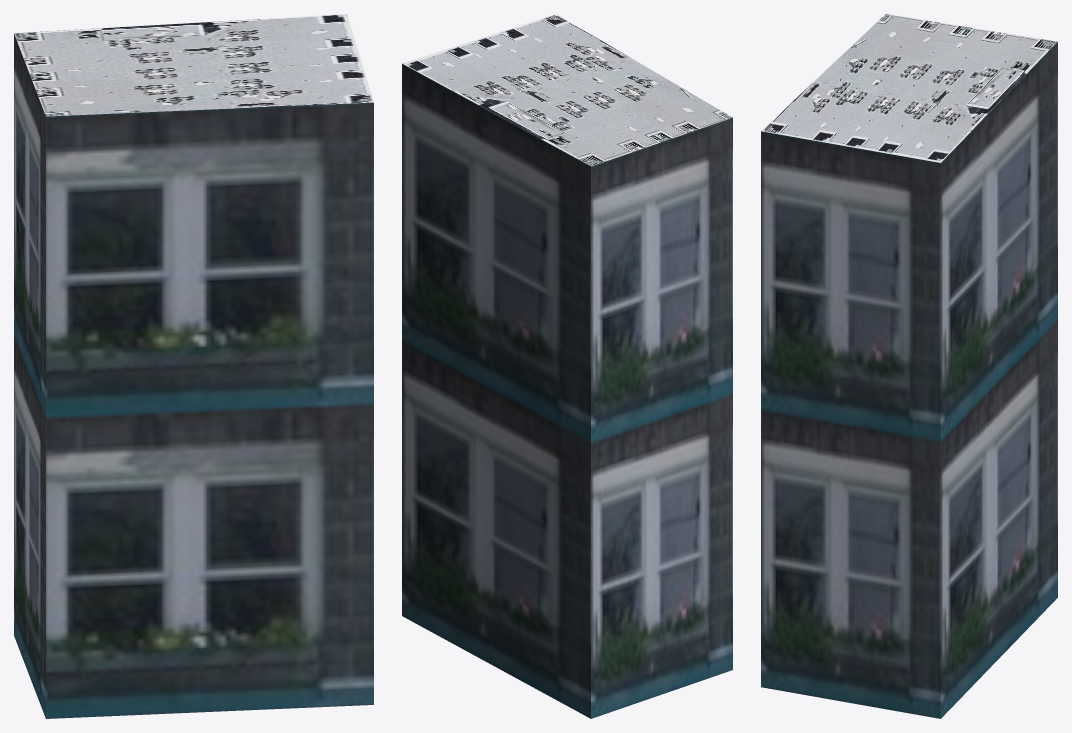
File: ResTex__2420.fbx
3 views of the same model, side by side, from view 1: azimuth 30°, elevation 25°; view 2: azimuth 150°, elevation 25°; view 3: azimuth 270°, elevation 25° (orthographic). The views are drawn at different scales.
Visible parts, largest first — view 1: CityEngineMaterial_11_m, CityEngineMaterial_8_m; view 2: CityEngineMaterial_11_m, CityEngineMaterial_8_m; view 3: CityEngineMaterial_11_m, CityEngineMaterial_8_m.
Boxes of the visible parts, box(x1,y1,x2,y2) form: CityEngineMaterial_11_m: box(14, 34, 373, 718); CityEngineMaterial_8_m: box(14, 14, 373, 116); CityEngineMaterial_11_m: box(402, 64, 732, 718); CityEngineMaterial_8_m: box(402, 14, 732, 166); CityEngineMaterial_11_m: box(761, 42, 1057, 718); CityEngineMaterial_8_m: box(761, 14, 1057, 162).
Size of the model in its own units: 3.45 by 6 by 2.9.
2 materials, 2 textured.
